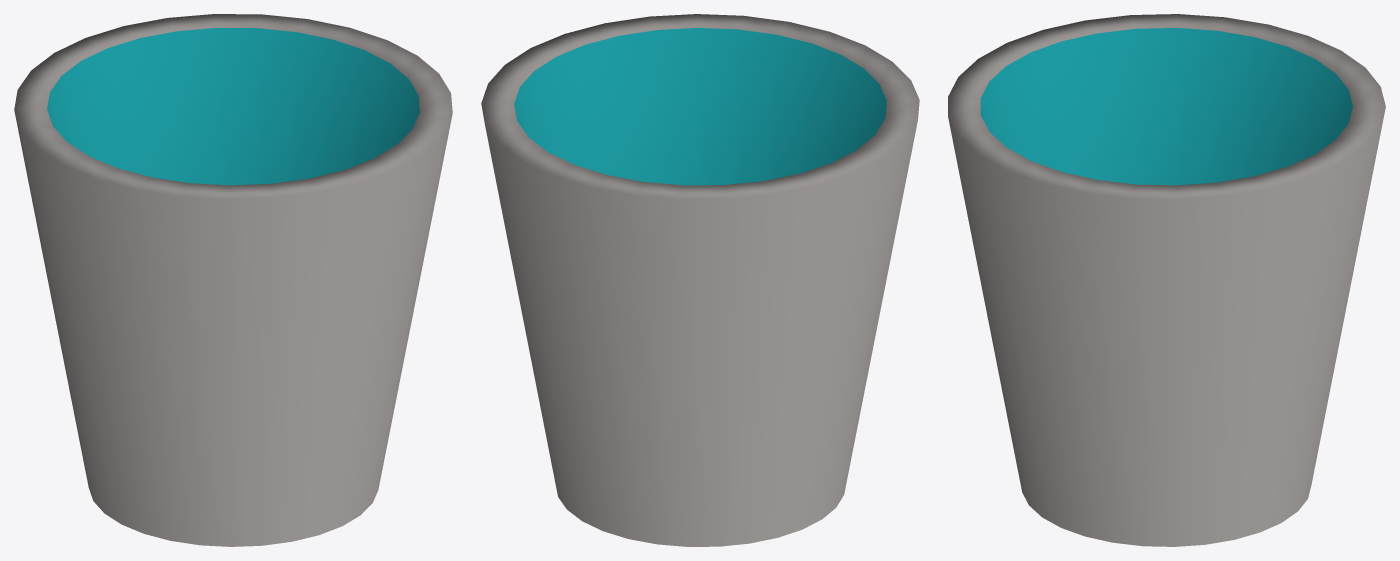
The model's file is trash_bin(1).fbx.
3 views of the same model, side by side, from view 1: azimuth 30°, elevation 25°; view 2: azimuth 150°, elevation 25°; view 3: azimuth 270°, elevation 25° (orthographic).
Parts seen in each view (by area): view 1: Cylinder; view 2: Cylinder; view 3: Cylinder.
Part boxes in pixels (x1=…): Cylinder: x1=14, y1=14, x2=452, y2=546; Cylinder: x1=481, y1=14, x2=919, y2=546; Cylinder: x1=948, y1=14, x2=1385, y2=546.
Size of the model in its own units: 302 by 289 by 302.
